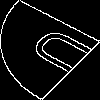U: (25, 25, 100, 82)
